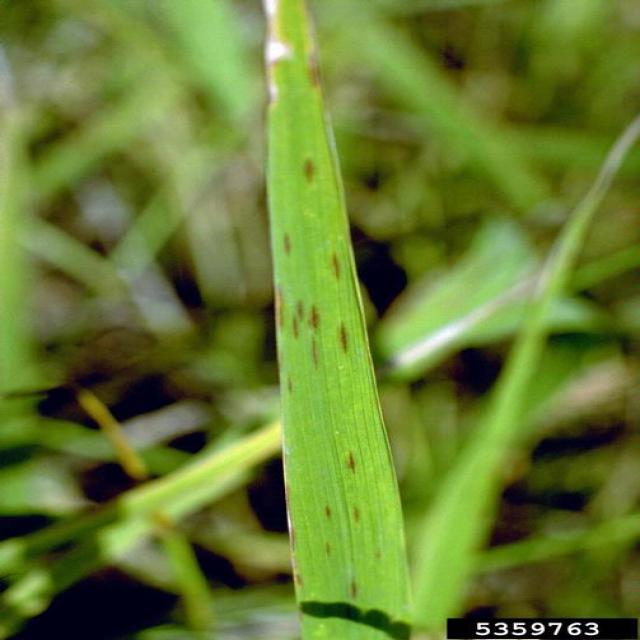Brown spot: (285, 444, 321, 602), (266, 222, 302, 260), (322, 248, 350, 284), (272, 284, 288, 346), (334, 318, 362, 350), (293, 151, 317, 188), (292, 299, 308, 341), (342, 574, 367, 599), (306, 341, 329, 368), (344, 444, 360, 475), (284, 371, 299, 395), (349, 502, 364, 526), (370, 543, 388, 561), (310, 303, 320, 331), (323, 500, 335, 520), (325, 538, 332, 556)
